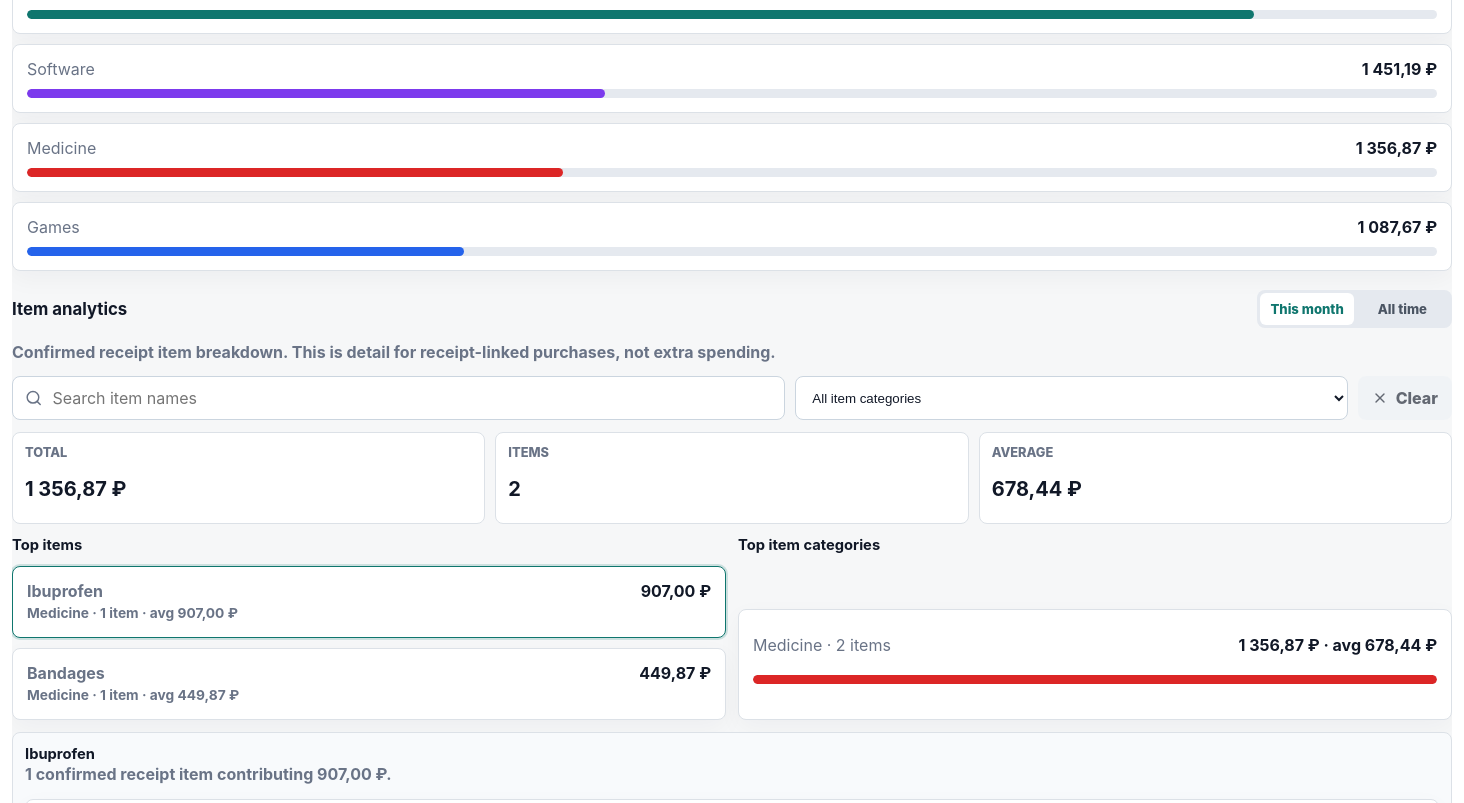
it: DashboardPage › searches item analytics without changing Dashboard monthly spend
(page scrolled)
Type "band" into the search field named "Search items". click: point(411, 398)
box: [50,387,772,409]
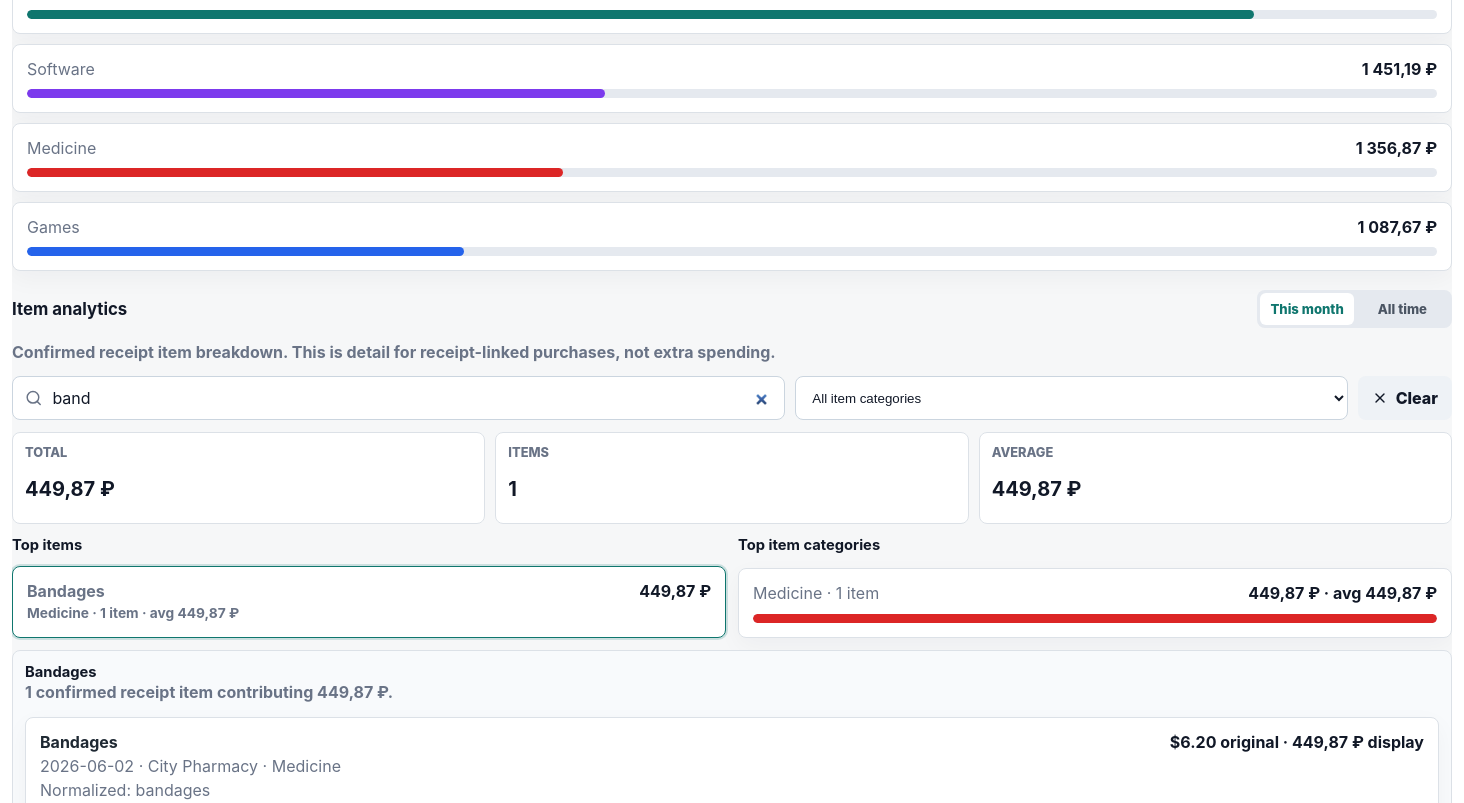
Check: the text "Bandages" below "Top items" is shown, box [27,581,105,601]
Check: the button "Ibuprofen" is gone
